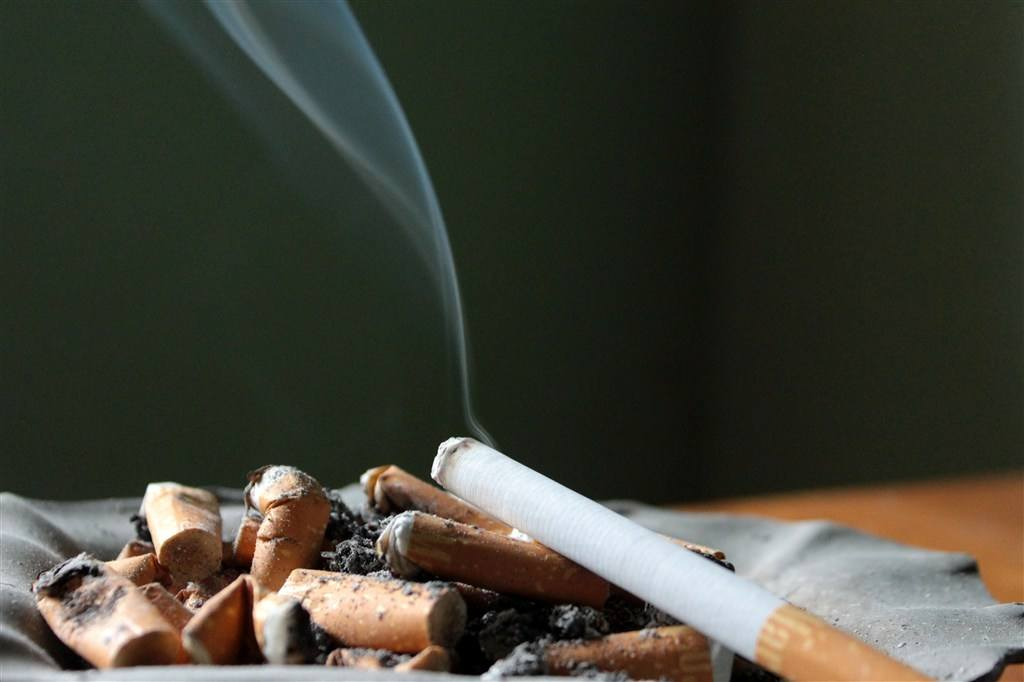yanwu: (159, 1, 496, 435)
